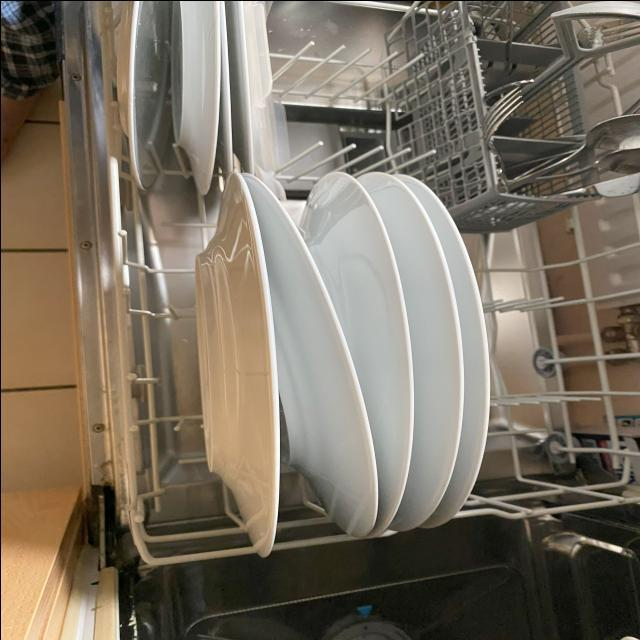clutery_bin: (467, 6, 607, 196)
empty_slot: (485, 232, 620, 475), (116, 203, 213, 526), (276, 16, 425, 163)
